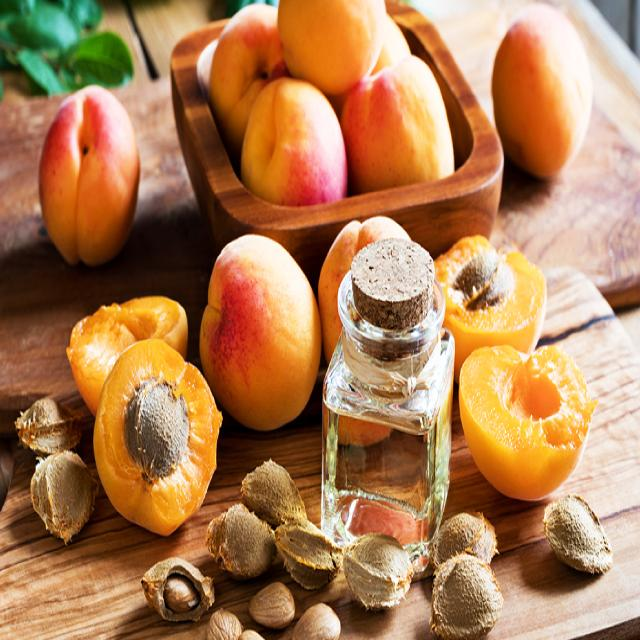Cekirdek: (123, 380, 189, 482), (30, 450, 97, 543), (431, 553, 502, 639), (544, 494, 612, 574), (206, 504, 276, 578), (16, 397, 81, 454)
Kayisi: (94, 339, 222, 535), (200, 235, 321, 429), (460, 345, 597, 498), (39, 87, 139, 264), (491, 4, 592, 177), (67, 296, 187, 412)
